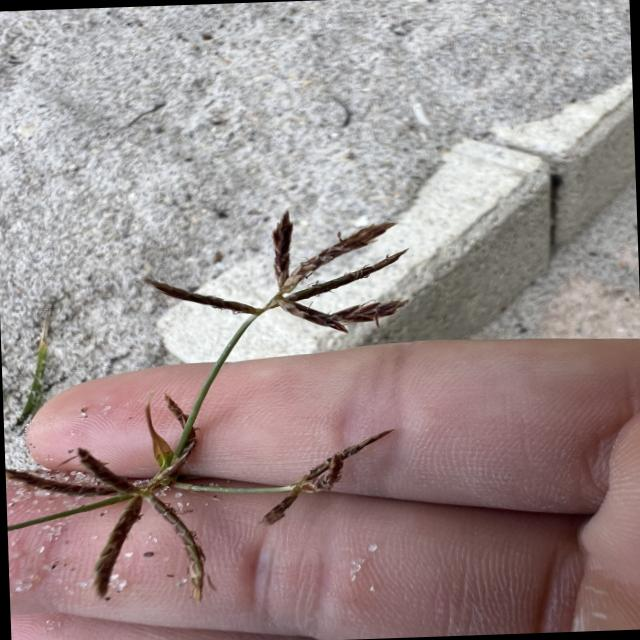cyperus: (0, 200, 436, 613)
